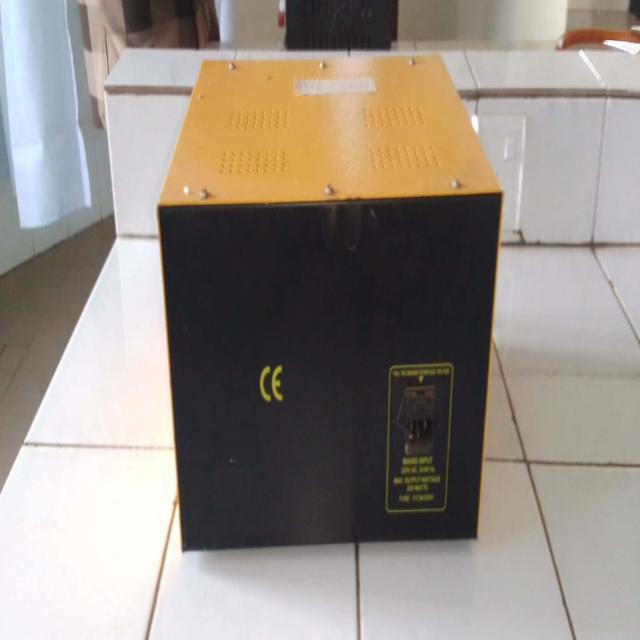Digital Power Supply: (154, 35, 508, 562)
